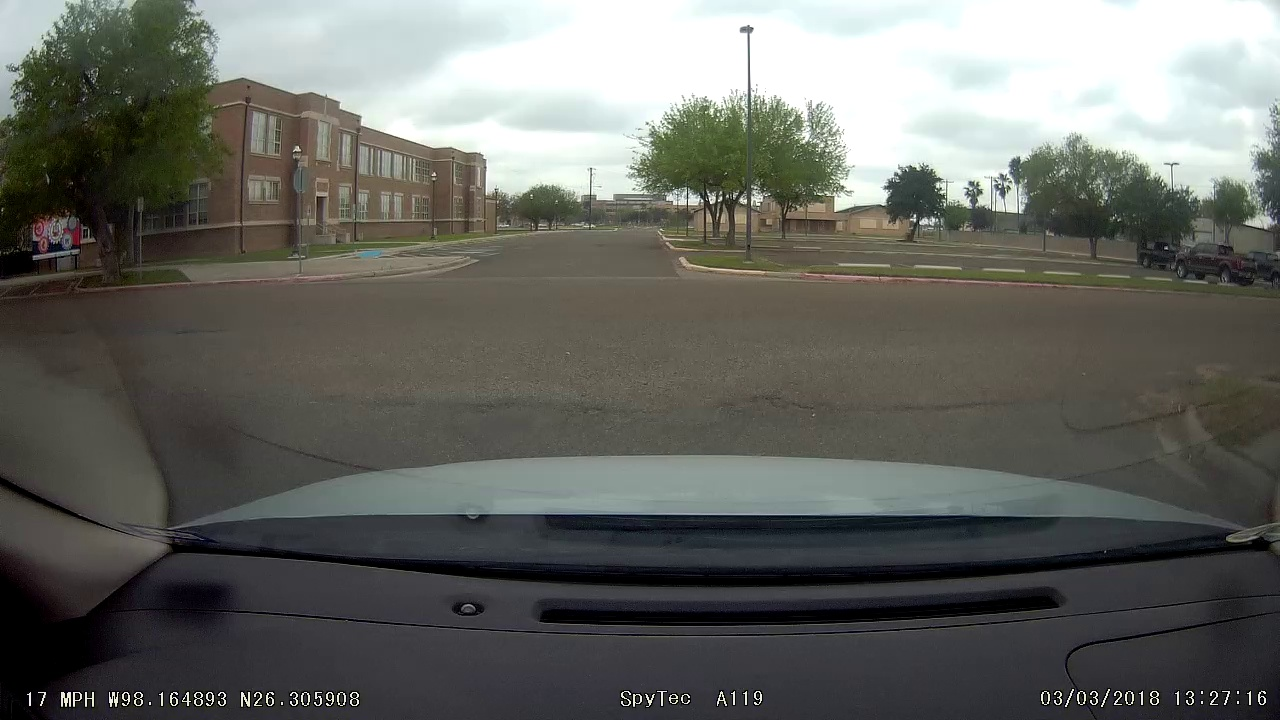crack: (704, 386, 1010, 424)
